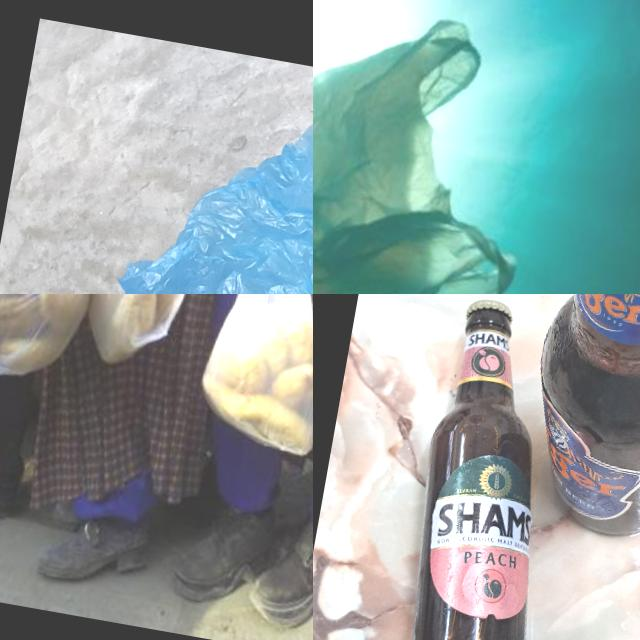garrafa de vidro: (394, 294, 582, 640), (512, 294, 640, 549)
sacola plástica: (313, 0, 561, 294), (87, 64, 313, 294), (184, 294, 313, 460), (54, 294, 230, 411), (0, 294, 114, 404)
